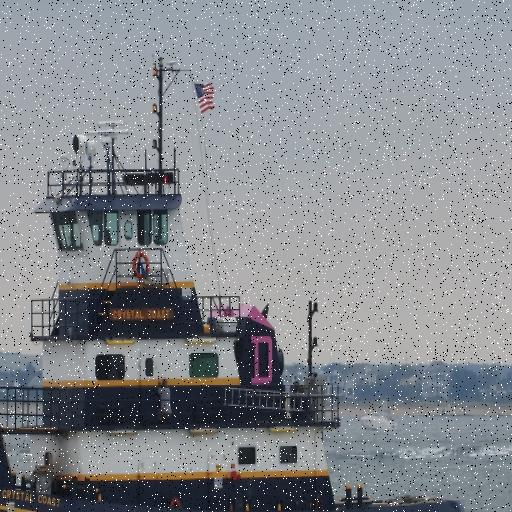tugboat: (1, 54, 484, 512)
